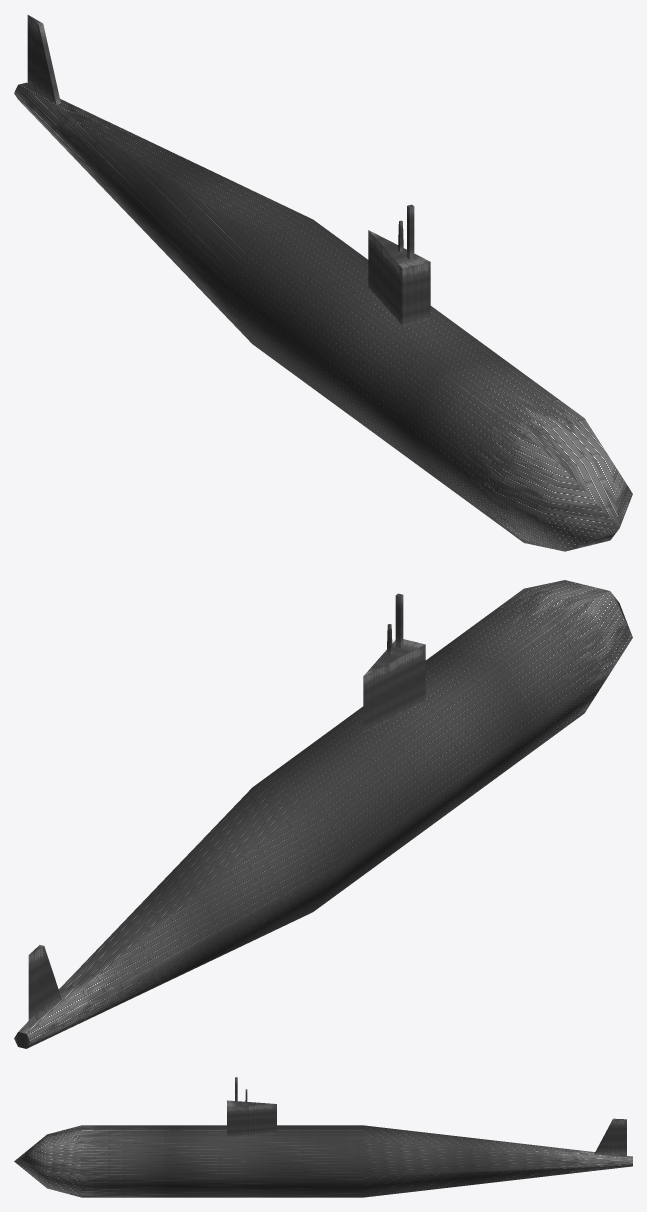
Rendered from Submarine_LowRes.DAE.
3 renders of one model, top to bottom at view 1: azimuth 30°, elevation 25°; view 2: azimuth 150°, elevation 25°; view 3: azimuth 270°, elevation 25°, orthographic. The views are drawn at different scales.
Parts seen in each view (by area): view 1: submarinelowrez; view 2: submarinelowrez; view 3: submarinelowrez.
Boxes of the visible parts, left/top/right/bottom form: submarinelowrez: left=14, top=15, right=632, bottom=551; submarinelowrez: left=14, top=580, right=632, bottom=1048; submarinelowrez: left=14, top=1077, right=632, bottom=1197.
Size of the model in its own units: 357 by 615 by 3040.
1 material, 1 textured.
